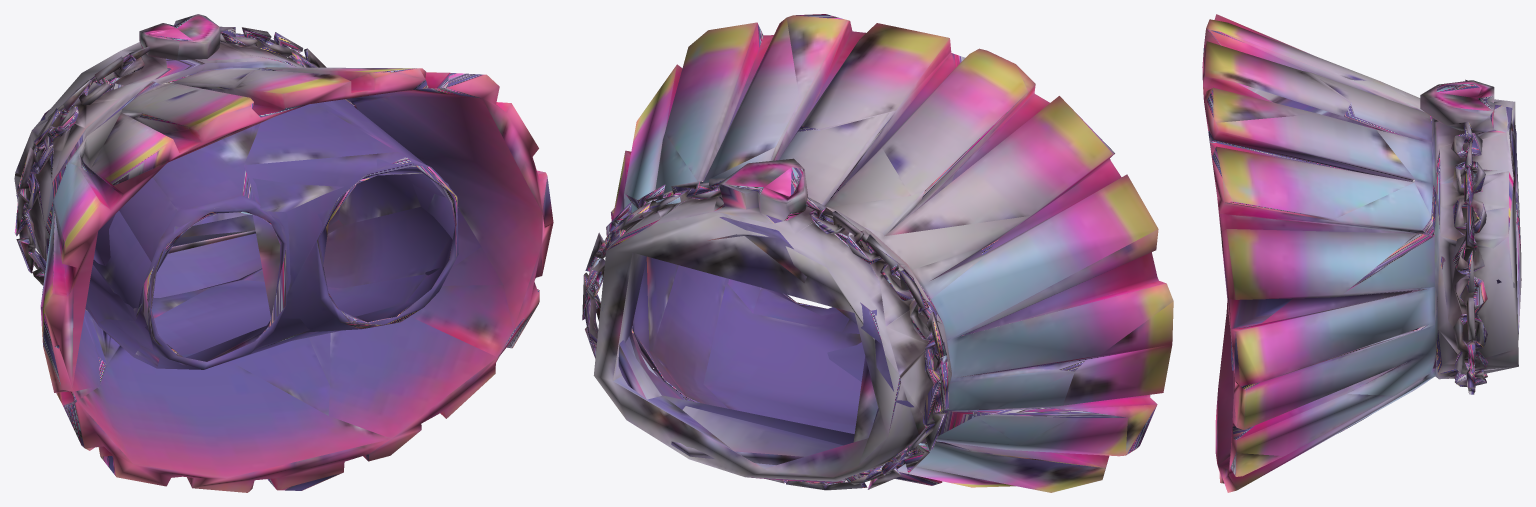
3 renders of one model, left to right at view 1: azimuth 30°, elevation 25°; view 2: azimuth 150°, elevation 25°; view 3: azimuth 270°, elevation 25°, orthographic. The views are drawn at different scales.
Visible parts, largest first — view 1: material; view 2: material; view 3: material.
Boxes of the visible parts, x1,y1,x2,y2 form: material: (14,14,553,492); material: (582,14,1173,492); material: (1202,14,1521,492).
Bounding box in the file's own units: 1 × 0.7623 × 0.5512.
1 material, 1 textured.
